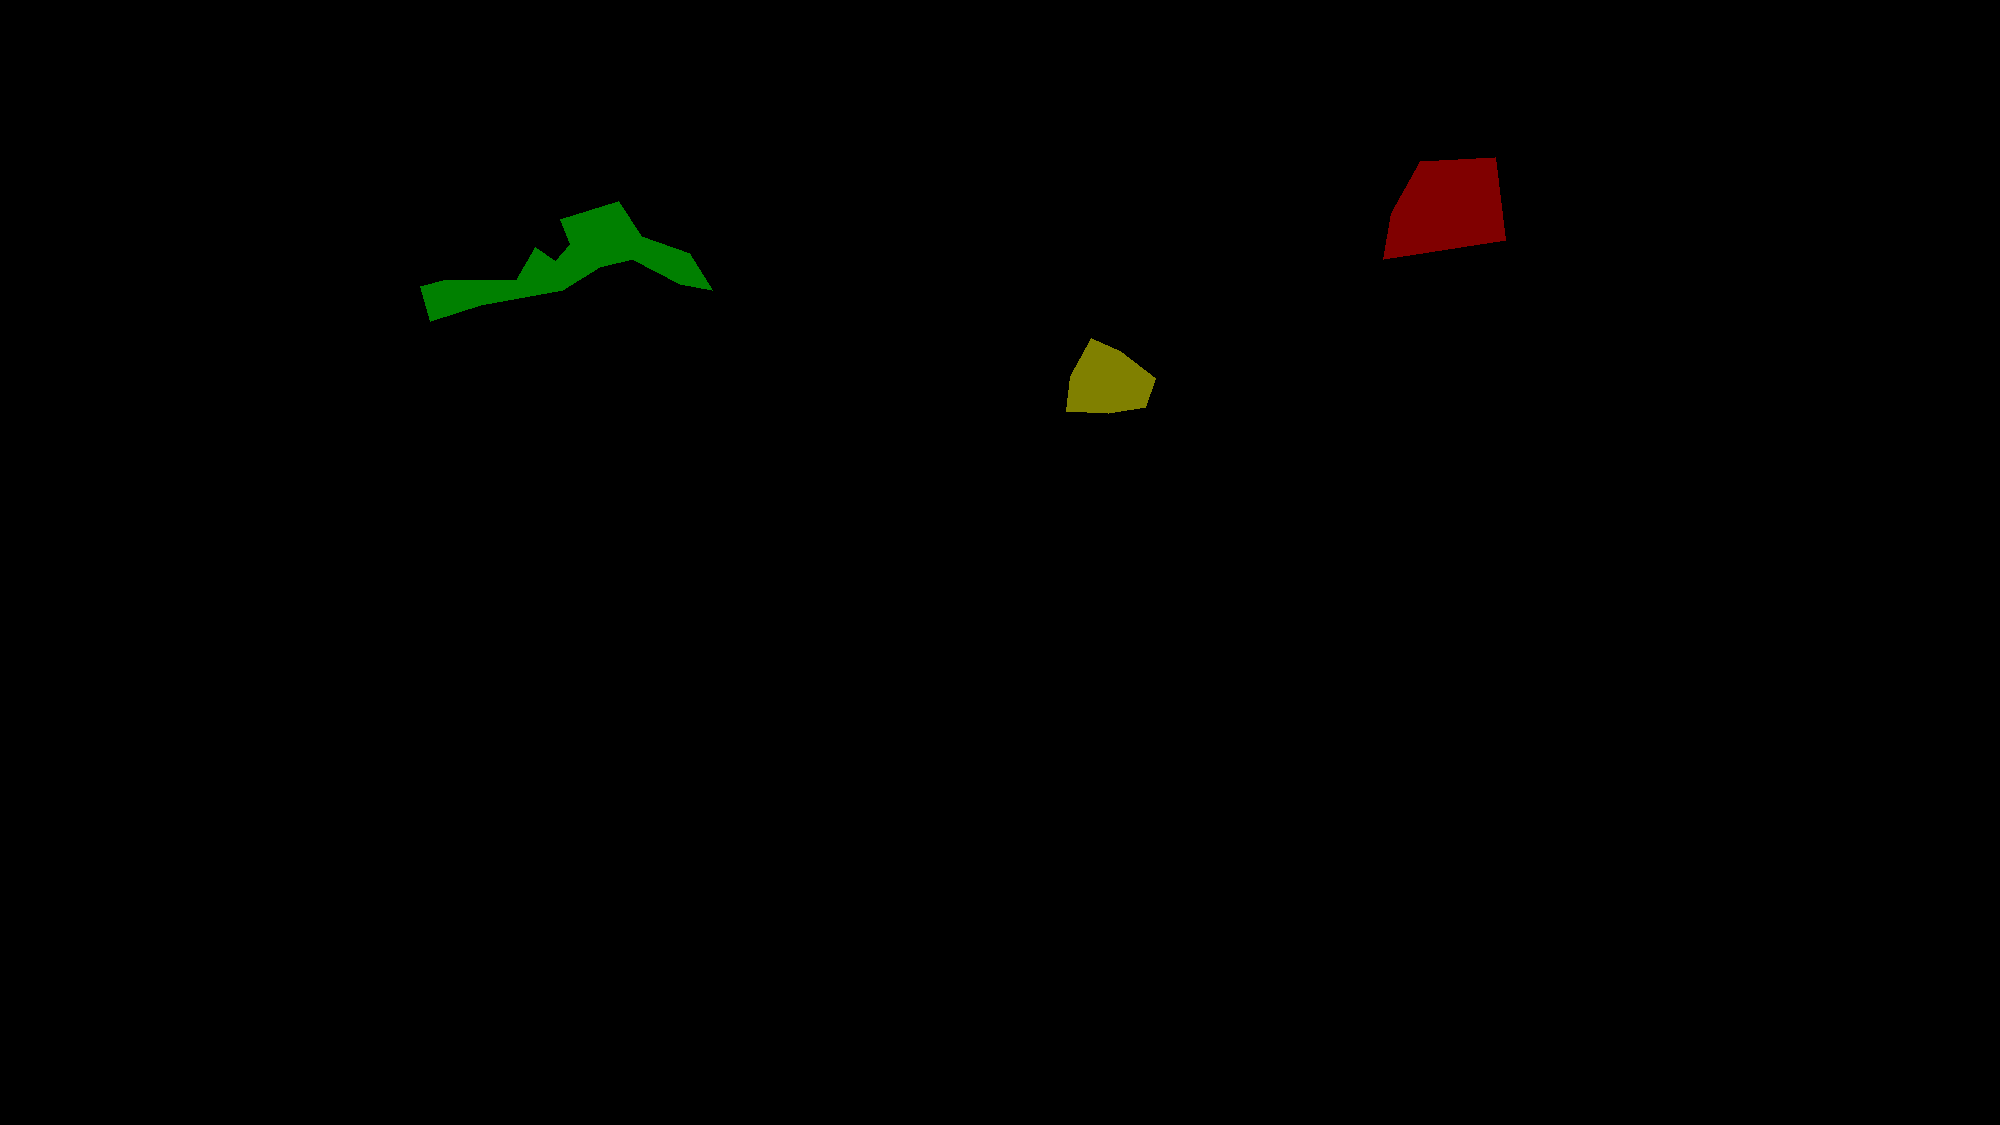fire: (420, 201, 712, 321), (1383, 157, 1505, 260), (1066, 338, 1155, 413)
